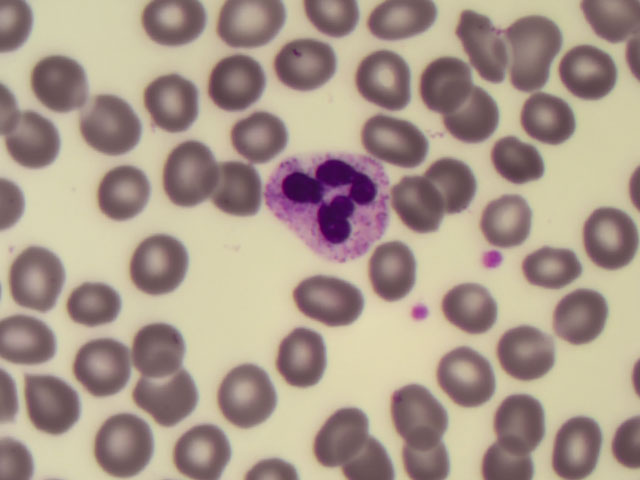Platelets: (476, 247, 505, 276), (410, 302, 436, 328)
RBC: (31, 50, 91, 115), (9, 103, 69, 168), (83, 99, 143, 164), (96, 162, 156, 227), (158, 146, 218, 211), (132, 70, 192, 135), (209, 50, 269, 115), (146, 1, 206, 65), (275, 35, 333, 100), (362, 47, 420, 112), (408, 47, 466, 112), (440, 75, 498, 140), (454, 9, 512, 74), (500, 16, 558, 81), (558, 41, 616, 106), (526, 85, 584, 150), (494, 127, 552, 192), (434, 149, 492, 214), (392, 173, 450, 238), (368, 110, 426, 175), (365, 236, 423, 301), (482, 180, 540, 245), (526, 227, 584, 292), (572, 204, 630, 269), (548, 289, 606, 354), (499, 325, 557, 390), (434, 280, 492, 345), (439, 343, 497, 408), (308, 269, 366, 334), (273, 327, 331, 392), (216, 364, 274, 429), (132, 321, 190, 386), (137, 358, 195, 423), (135, 235, 193, 300), (67, 279, 125, 344), (91, 328, 149, 393), (100, 413, 158, 478), (23, 374, 81, 439), (13, 243, 71, 308), (309, 402, 367, 467), (384, 387, 442, 452), (487, 392, 545, 457), (544, 415, 602, 480), (373, 1, 431, 65), (1, 307, 58, 372), (169, 416, 226, 480), (223, 1, 283, 57)
WBC: (261, 150, 393, 266)
